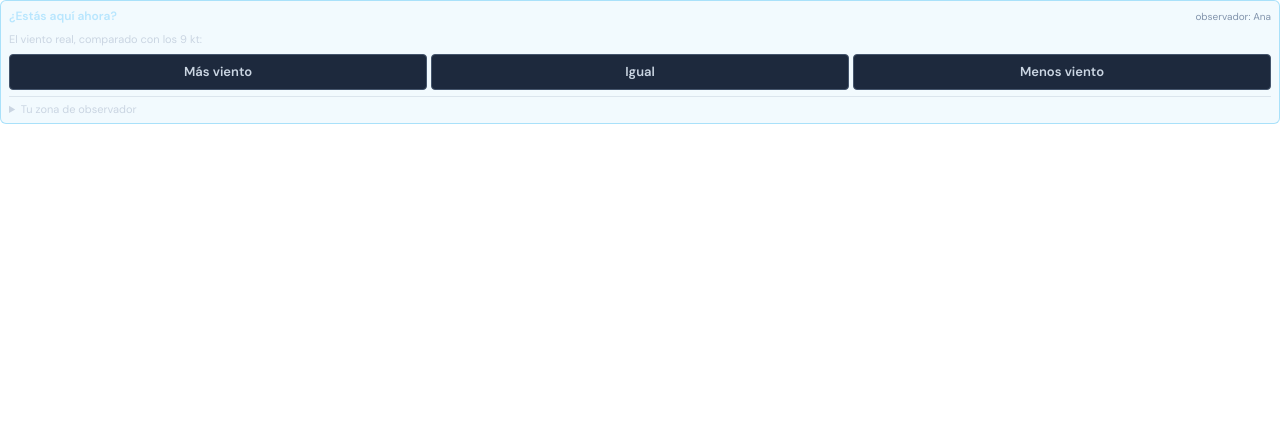
Test: SpotReportBox with a personal observer code › says who is reporting, asks for knots and sends them; the diary is there
Check: the text "observador: Ana" is shown, box left=1195, top=9, right=1271, bottom=24
Check: the heading "Tu zona de observador" is shown, box left=21, top=102, right=137, bottom=116
Click the button "Más viento" at x=218, y=72, box left=9, top=54, right=427, bottom=90
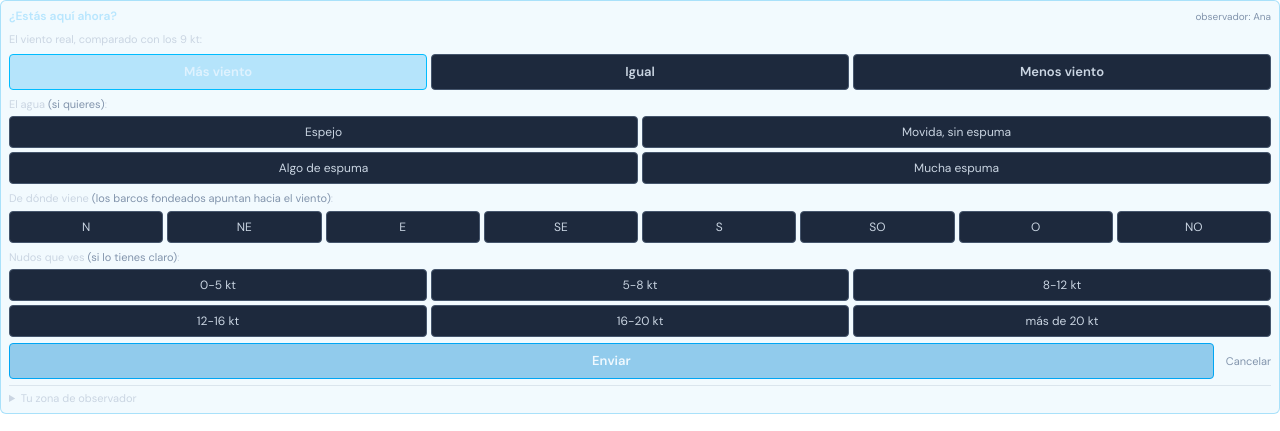
Click the button "12-16 kt" at x=218, y=321, box left=9, top=305, right=427, bottom=337
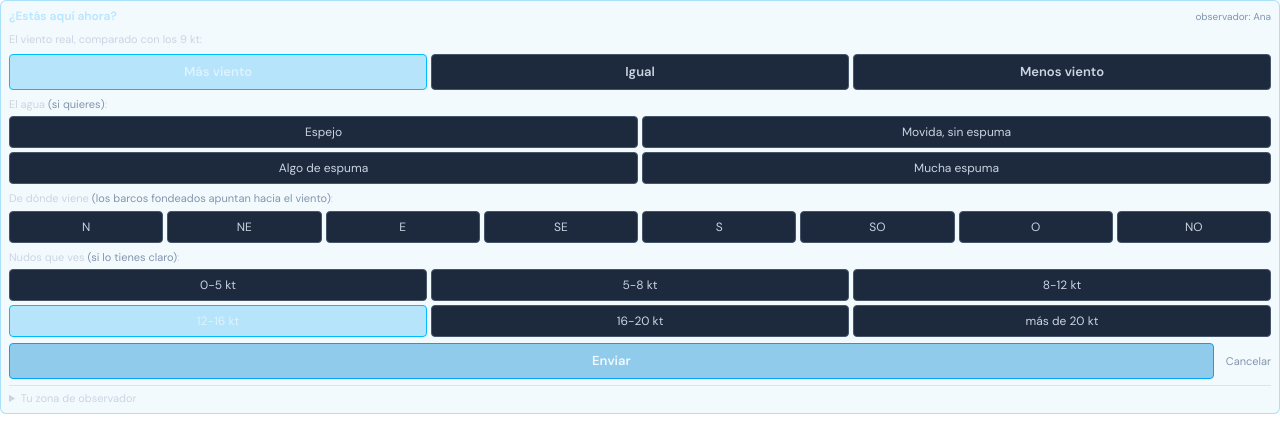
Click the button "Enviar" at x=611, y=361, box left=9, top=343, right=1214, bottom=379
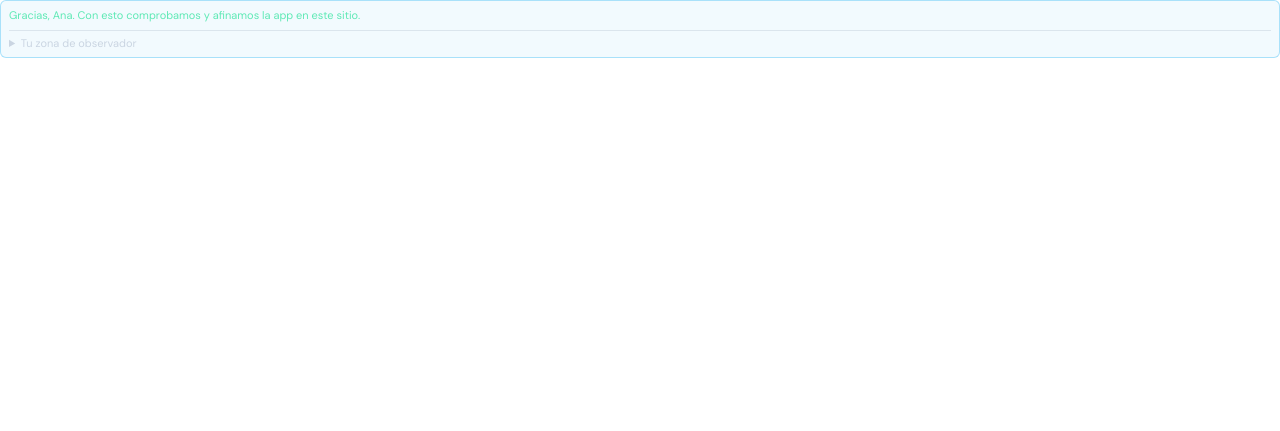
Check: the text "Gracias, Ana" is shown, box left=9, top=8, right=360, bottom=22
